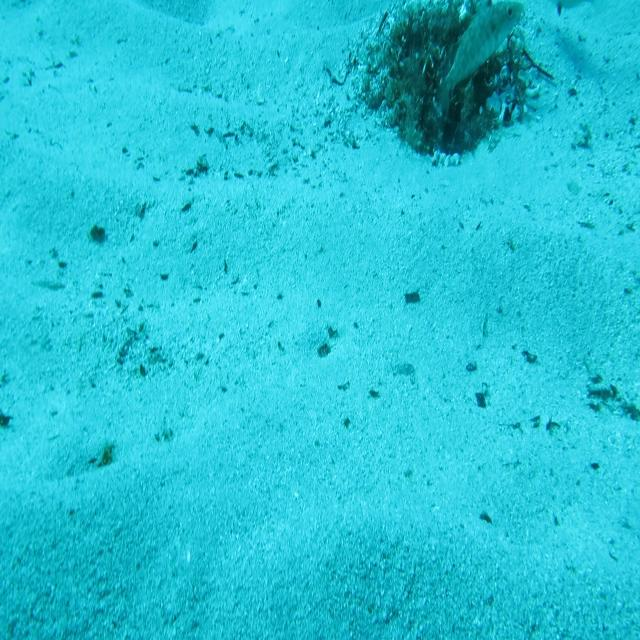LF: (433, 0, 524, 115)
core_nest: (419, 17, 470, 56)
female: (544, 0, 588, 17)
nest: (348, 0, 540, 170)
vegetation: (88, 220, 108, 245), (403, 288, 422, 306), (316, 342, 332, 359)
